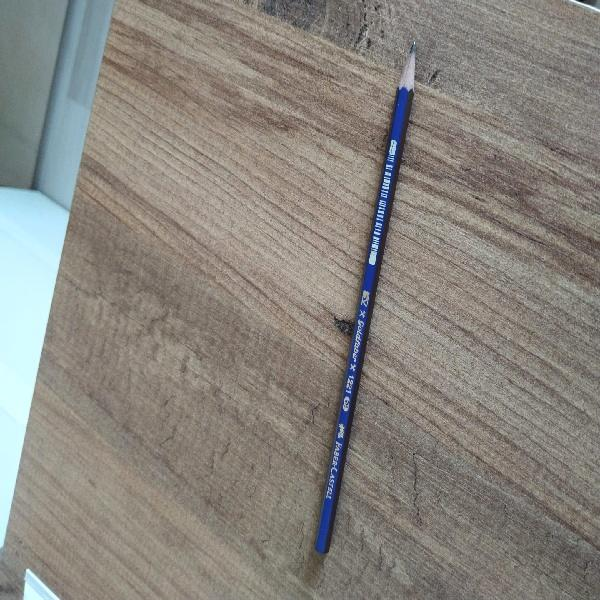pencil: (315, 43, 415, 553)
